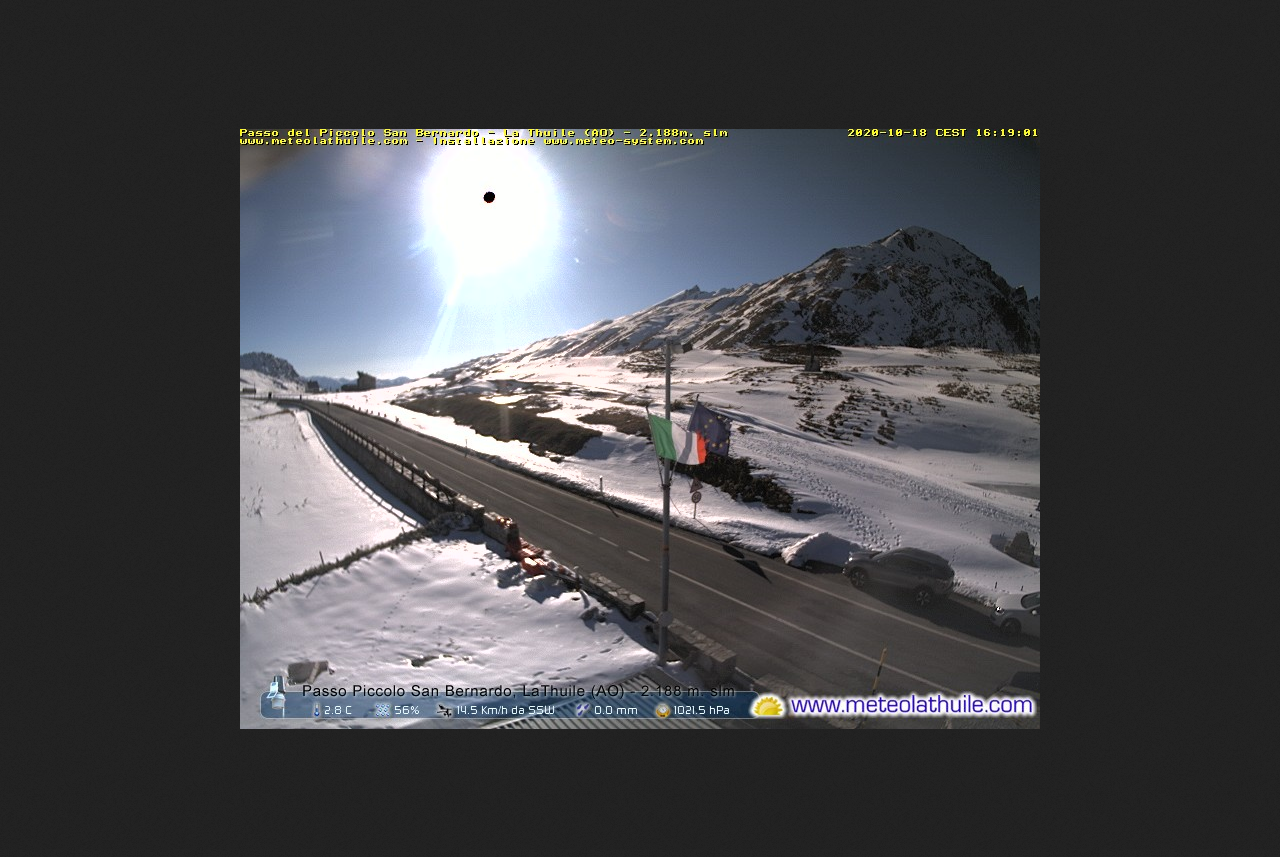yes: (640, 409, 711, 469), (690, 401, 733, 459)
